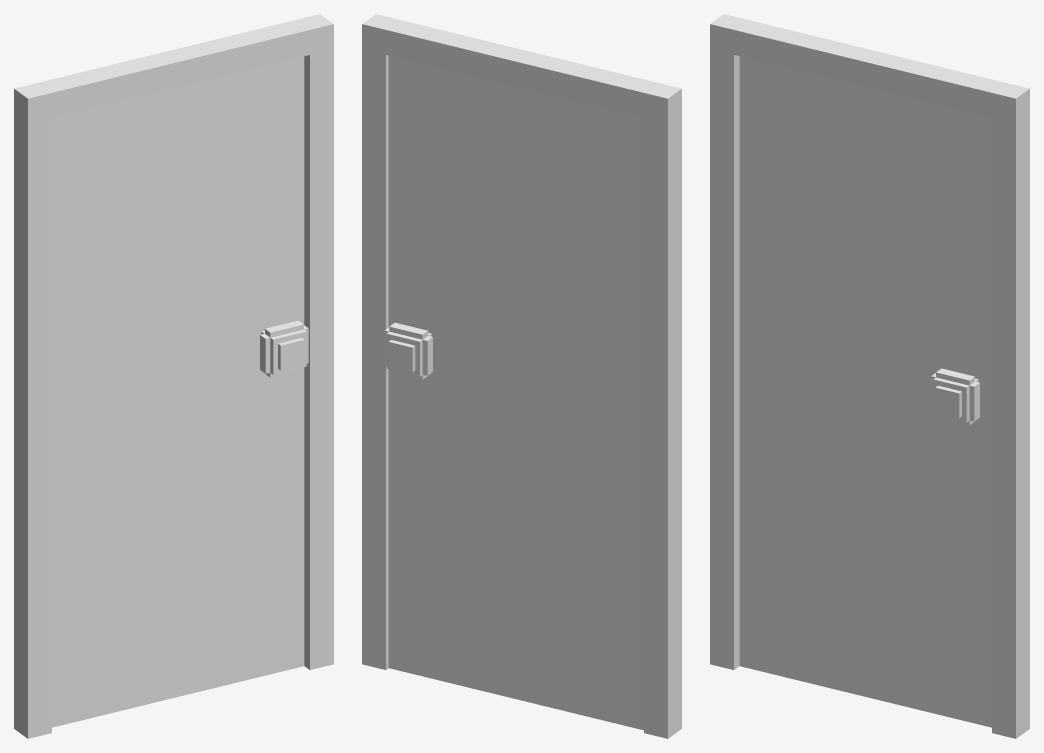
The model's file is door.obj.
The picture shows the model from 3 angles, left to right: view 1: azimuth 30°, elevation 25°; view 2: azimuth 150°, elevation 25°; view 3: azimuth 330°, elevation 25°; orthographic projection.
Size of the model in its own units: 6.4 by 12.8 by 1.6.
1 material, 1 textured.
